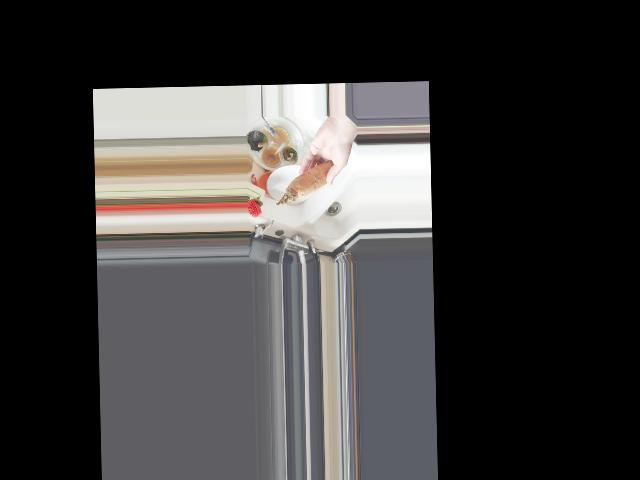sweet_potato: (273, 156, 339, 206)
